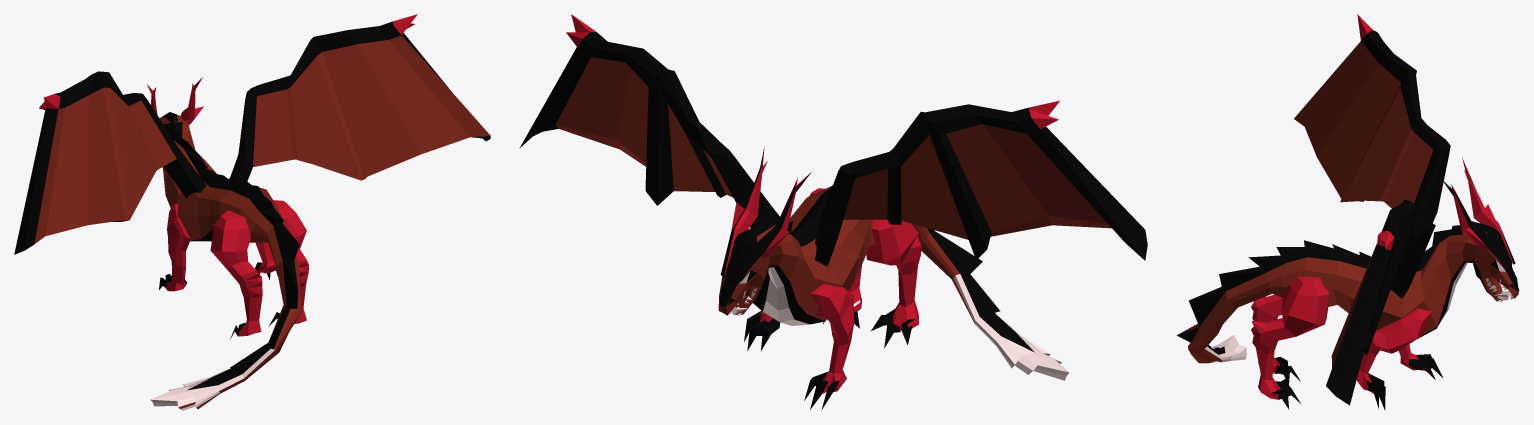
Rendered from Dragon.fbx.
3 renders of one model, left to right at view 1: azimuth 30°, elevation 25°; view 2: azimuth 150°, elevation 25°; view 3: azimuth 270°, elevation 25°, orthographic. The views are drawn at different scales.
Parts seen in each view (by area): view 1: dragon; view 2: dragon; view 3: dragon.
Part boxes in pixels (x1=…): dragon: x1=14, y1=14, x2=490, y2=410; dragon: x1=519, y1=14, x2=1147, y2=410; dragon: x1=1177, y1=14, x2=1519, y2=410.
Bounding box in the file's own units: 2007 × 1105 × 1132.
